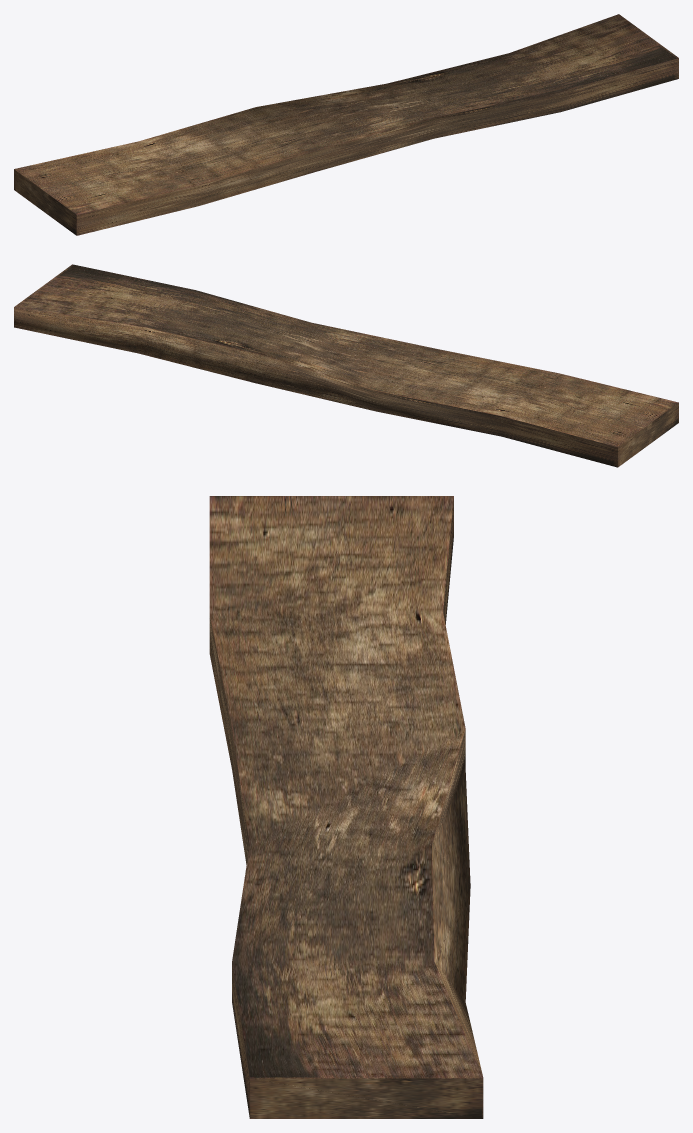
File: plank1.fbx
3 views of the same model, one above another, from view 1: azimuth 30°, elevation 25°; view 2: azimuth 150°, elevation 25°; view 3: azimuth 270°, elevation 25° (orthographic). The views are drawn at different scales.
Parts seen in each view (by area): view 1: plank; view 2: plank; view 3: plank.
Boxes of the visible parts, box(x1,y1,x2,y2) form: plank: box(14, 14, 678, 235); plank: box(14, 264, 678, 467); plank: box(209, 496, 483, 1118).
Bounding box in the file's own units: 1179 × 38.47 × 234.
Materials: 1 (1 with a texture image).
